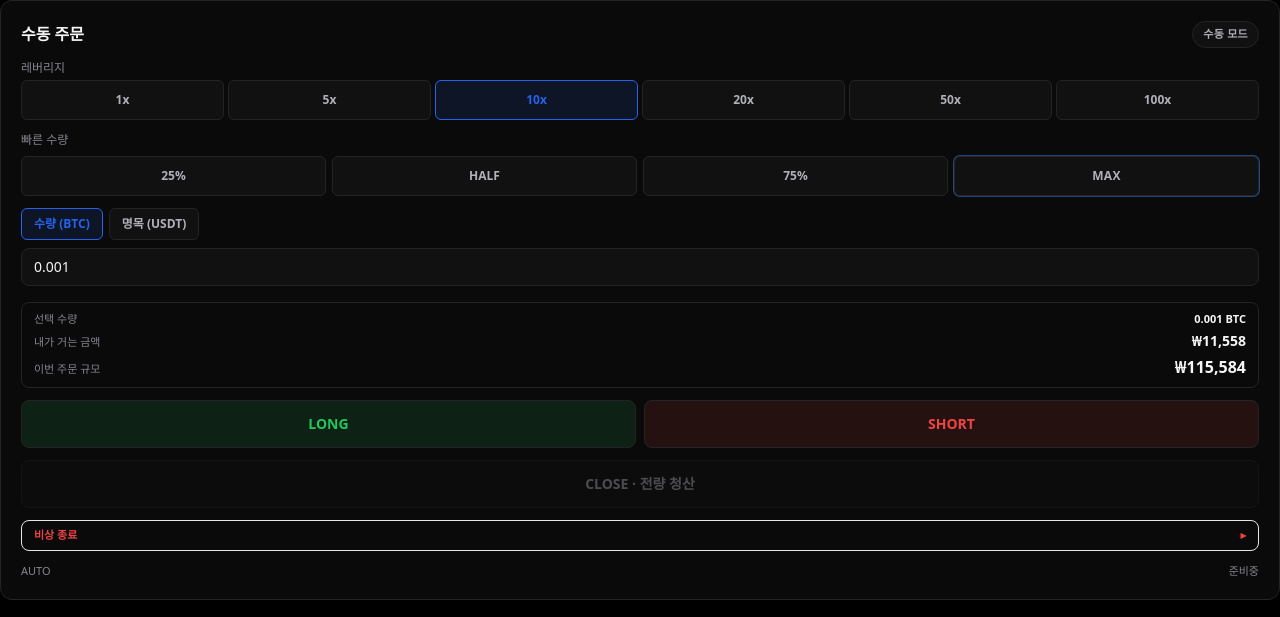
quick position size › shows the picked preset's quantity and its KRW notional on the ticket
This screenshot has width=1280, height=617.
Step 1. Click the button with test id "preset-HALF" → [484, 176], box [332,156,637,196]
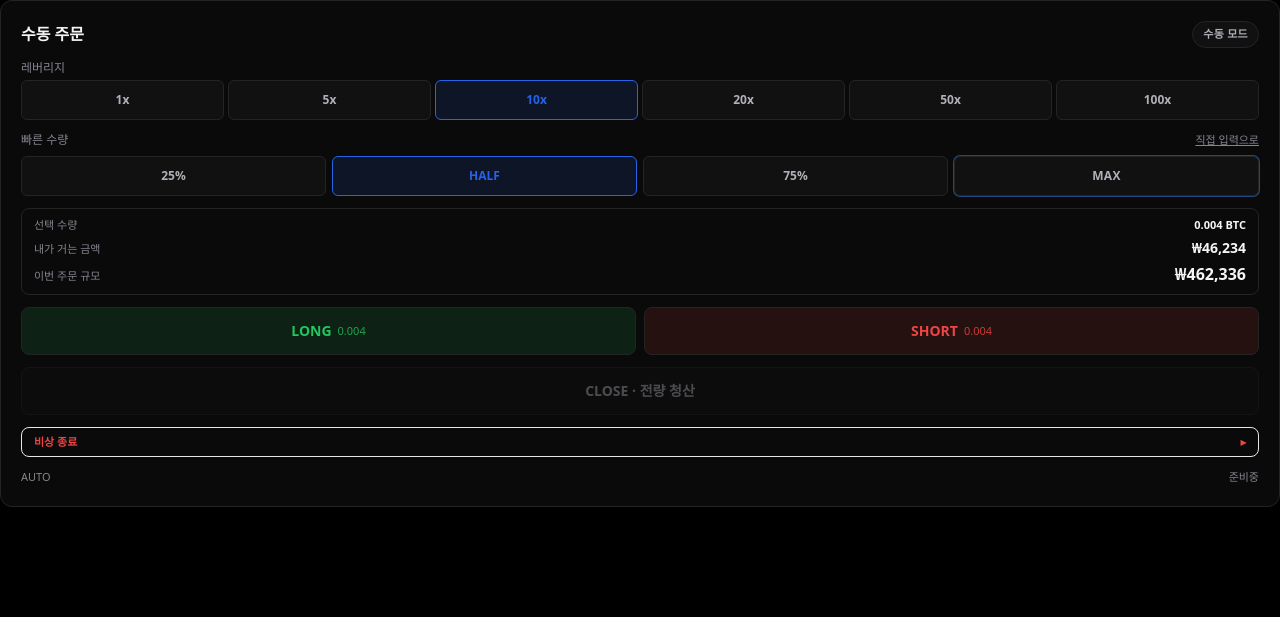
Result: the text with test id "paper-order-amount-qty" reads "0.004 BTC" at [1194,217,1246,232]
